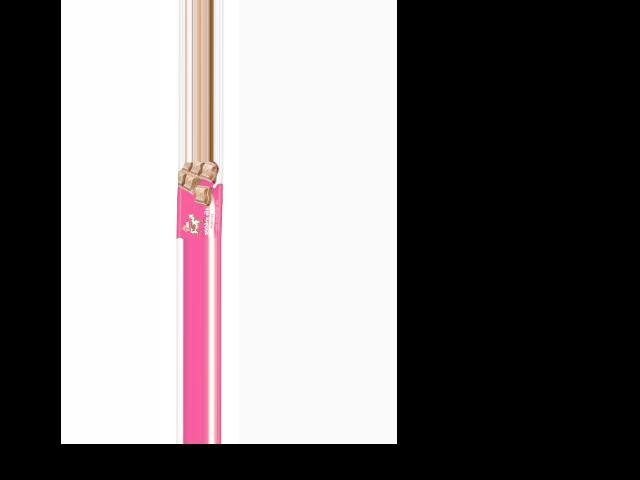chocolate: (178, 161, 223, 239)
